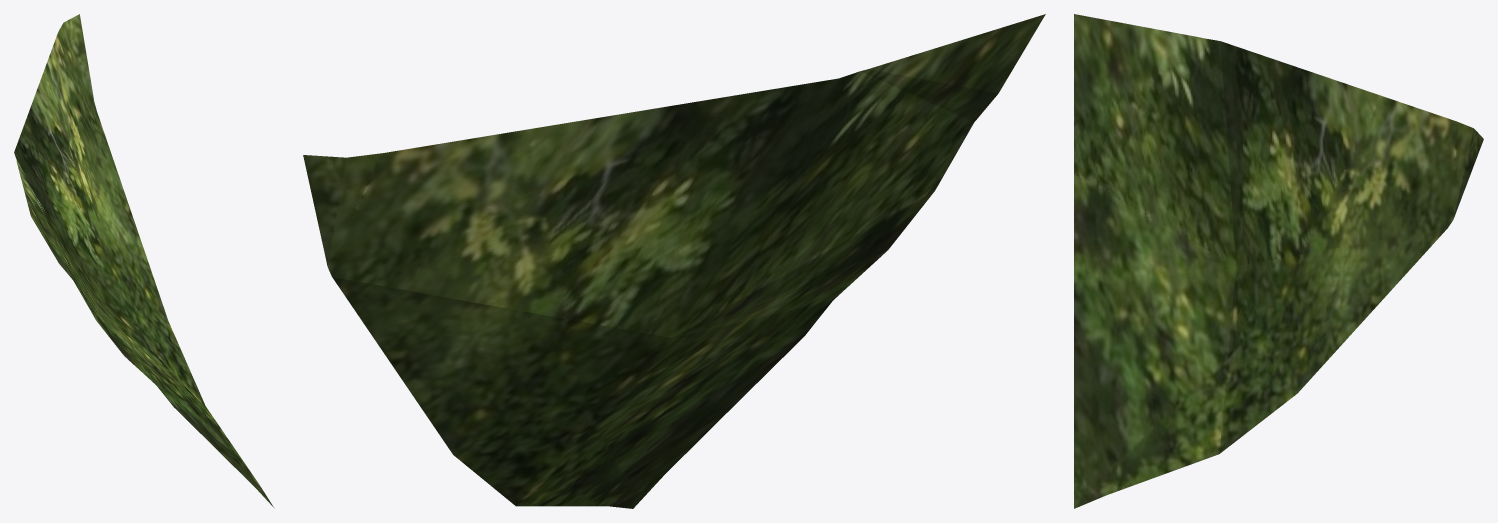
3 renders of one model, left to right at view 1: azimuth 30°, elevation 25°; view 2: azimuth 150°, elevation 25°; view 3: azimuth 270°, elevation 25°, orthographic. The views are drawn at different scales.
Size of the model in its own units: 1.89 by 2.61 by 2.62.
Materials: 2 (2 with a texture image).
